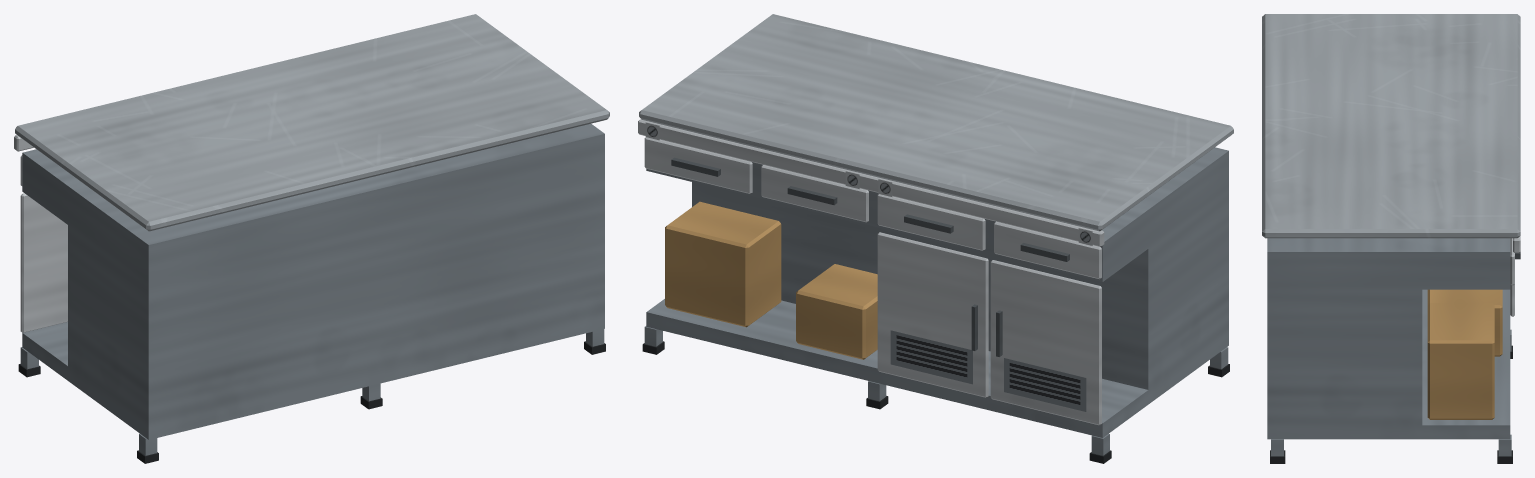
Rendered from counter_2m.glb.
The picture shows the model from 3 angles, left to right: view 1: azimuth 30°, elevation 25°; view 2: azimuth 150°, elevation 25°; view 3: azimuth 270°, elevation 25°; orthographic projection. The views are drawn at different scales.
Visible parts, largest first — view 1: counter_2m_body; view 2: counter_2m_body; view 3: counter_2m_body.
Boxes of the visible parts, x1,y1,x2,y2 form: counter_2m_body: [14, 14, 609, 463]; counter_2m_body: [638, 14, 1233, 463]; counter_2m_body: [1262, 14, 1520, 463].
Size of the model in its own units: 1.99 by 1 by 1.
7 materials, 6 textured.
